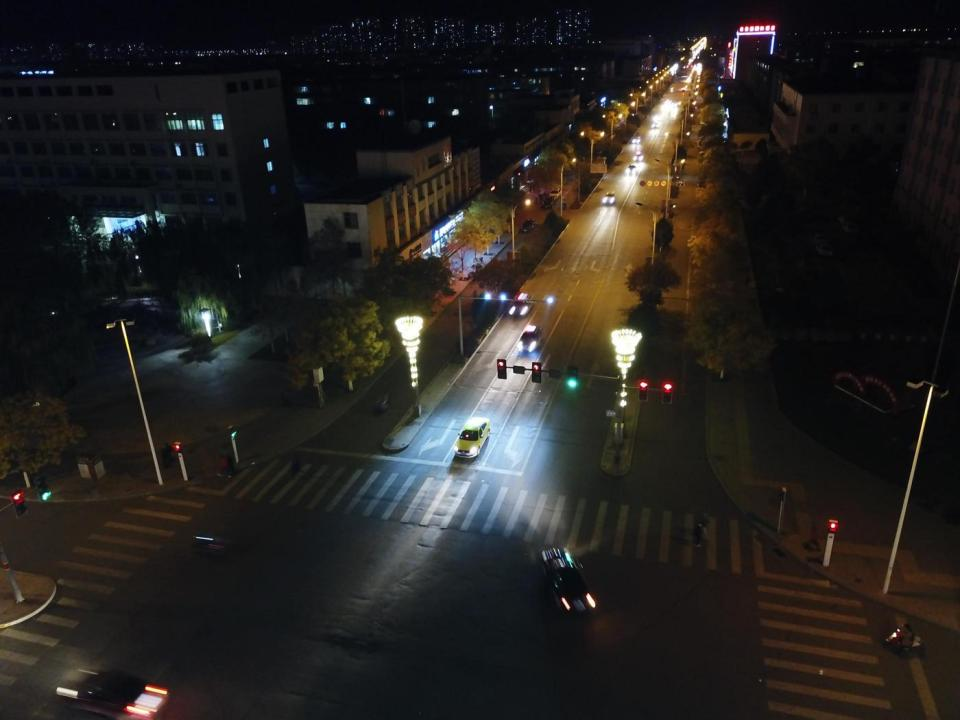car: (56, 671, 170, 718), (542, 548, 598, 616), (452, 416, 489, 459), (508, 293, 533, 317), (518, 327, 541, 353), (815, 243, 833, 256), (521, 219, 537, 232), (843, 222, 858, 235), (797, 206, 811, 219), (837, 215, 852, 226), (814, 234, 829, 245), (549, 188, 562, 199), (602, 194, 616, 204), (541, 198, 553, 208), (625, 165, 636, 174), (633, 152, 643, 160), (698, 180, 706, 190), (631, 136, 641, 143), (608, 131, 616, 139), (616, 120, 624, 128), (593, 148, 601, 154), (577, 154, 584, 160), (652, 123, 658, 129), (672, 101, 677, 107), (628, 112, 635, 116), (670, 86, 674, 92), (666, 99, 670, 105), (644, 98, 649, 102), (681, 86, 685, 90), (637, 103, 642, 106), (645, 95, 650, 98), (652, 89, 656, 91)
